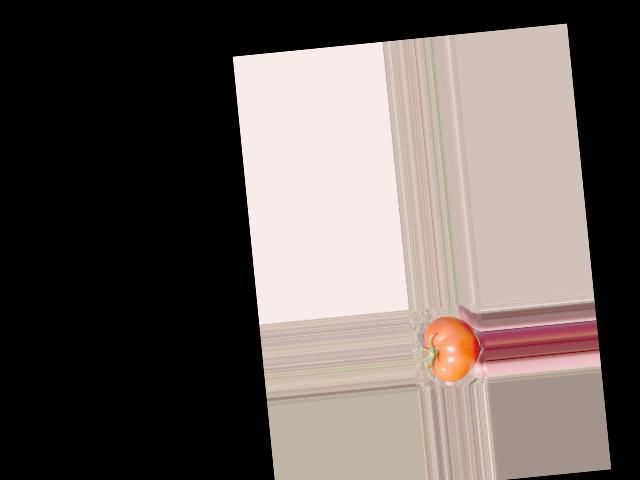tomato: (421, 313, 483, 384)
